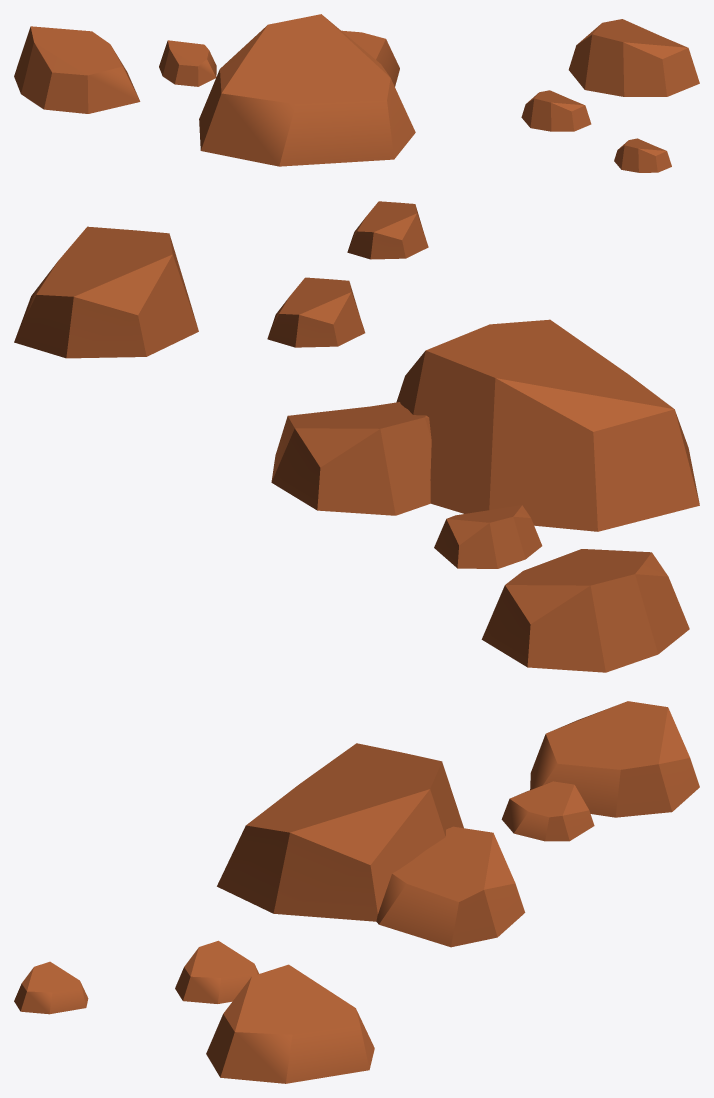
Rendered from model_rock_pebbles.fbx.
3 views of the same model, one above another, from view 1: azimuth 30°, elevation 25°; view 2: azimuth 150°, elevation 25°; view 3: azimuth 270°, elevation 25° (orthographic). The views are drawn at different scales.
Parts seen in each view (by area): view 1: model_rock_pebbles; view 2: model_rock_pebbles; view 3: model_rock_pebbles.
Boxes of the visible parts, x1=… form: model_rock_pebbles: x1=14, y1=14, x2=699, y2=172; model_rock_pebbles: x1=14, y1=201, x2=699, y2=672; model_rock_pebbles: x1=14, y1=701, x2=699, y2=1083.
Size of the model in its own units: 272 by 40.03 by 239.
1 material, 1 textured.
